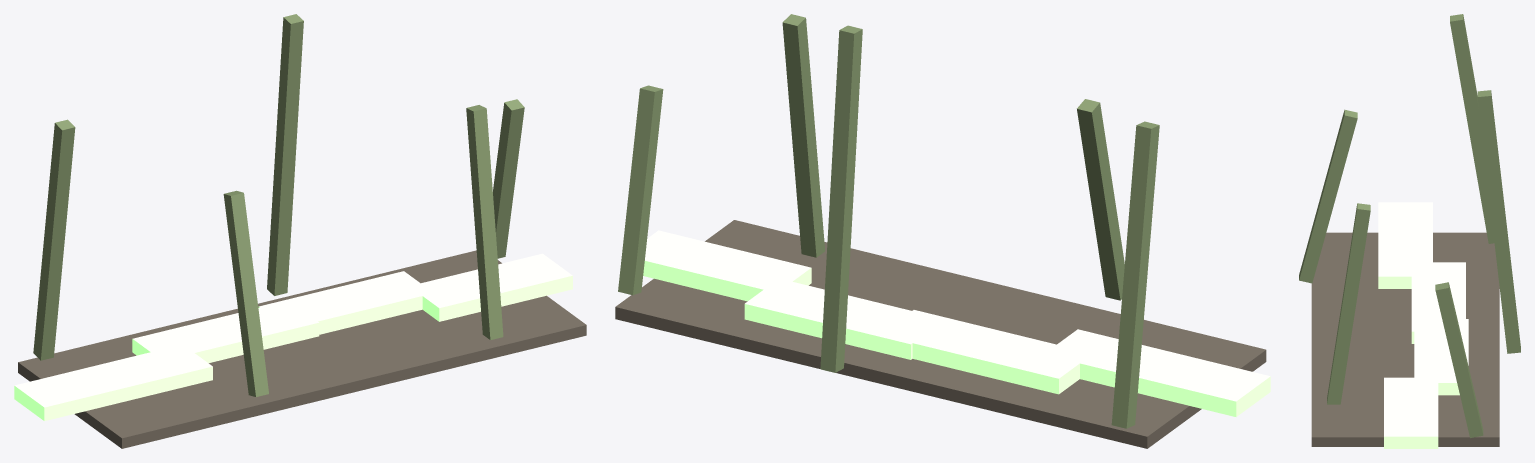
Rendered from marsh_slime_cluster.glb.
The picture shows the model from 3 angles, left to right: view 1: azimuth 30°, elevation 25°; view 2: azimuth 150°, elevation 25°; view 3: azimuth 270°, elevation 25°; orthographic projection. The views are drawn at different scales.
Visible parts, largest first — view 1: marsh_slime_cluster; view 2: marsh_slime_cluster; view 3: marsh_slime_cluster.
Part boxes in pixels (x1,y1,x2,y2): marsh_slime_cluster: (14,14,586,448); marsh_slime_cluster: (615,14,1270,448); marsh_slime_cluster: (1299,14,1520,448).
Bounding box in the file's own units: 1.83 × 0.9723 × 0.7321.
